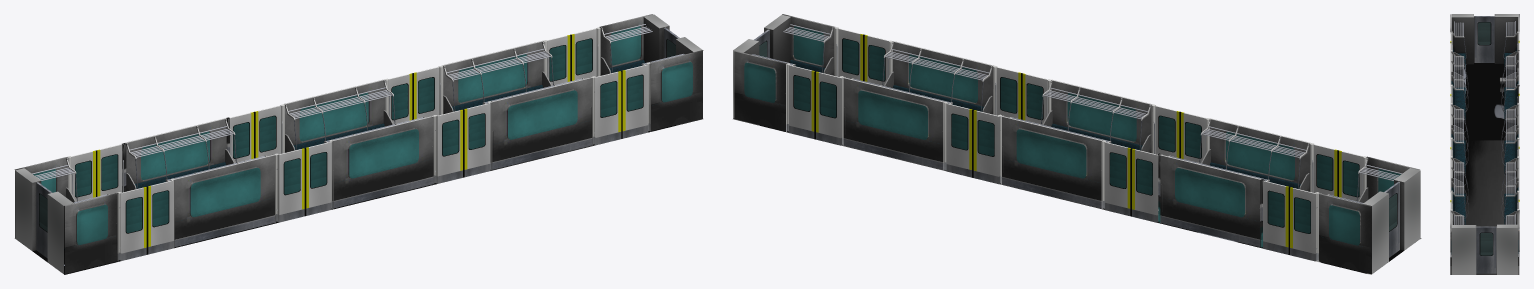
The model's file is train.fbx.
3 renders of one model, left to right at view 1: azimuth 30°, elevation 25°; view 2: azimuth 150°, elevation 25°; view 3: azimuth 270°, elevation 25°, orthographic. The views are drawn at different scales.
Visible parts, largest first — view 1: polySurface55, polySurface104, polySurface123, polySurface268, polySurface279, polySurface290, pCube10, polySurface146, polySurface141, door2left, door4right, door1right (+18 smaller); view 2: polySurface268, polySurface290, polySurface279, polySurface104, polySurface123, polySurface55, pCube10, polySurface300, polySurface301, door7left, door8left, door5left (+20 smaller); view 3: pPlane45, pCube10, pCube8, pPlane46, polySurface111, polySurface399, polySurface130, polySurface47, polySurface297, polySurface280, polySurface100, polySurface269 (+53 smaller).
Part boxes in pixels (x1,y1,x2,y2): polySurface55: [490, 77, 592, 169]; polySurface104: [332, 116, 433, 208]; polySurface123: [173, 154, 275, 246]; polySurface268: [125, 118, 226, 183]; polySurface279: [284, 79, 385, 145]; polySurface290: [442, 40, 543, 106]; pCube10: [15, 168, 73, 273]; polySurface146: [65, 193, 118, 273]; polySurface141: [649, 50, 703, 130]; door2left: [463, 103, 490, 177]; door4right: [120, 186, 147, 260]; door1right: [595, 71, 621, 145]; polySurface268: [1159, 154, 1261, 246]; polySurface290: [843, 77, 944, 169]; polySurface279: [1001, 115, 1102, 208]; polySurface104: [1051, 79, 1152, 152]; polySurface123: [1209, 118, 1310, 191]; polySurface55: [892, 41, 993, 114]; pCube10: [1363, 168, 1420, 273]; polySurface300: [1318, 193, 1371, 274]; polySurface301: [733, 50, 787, 131]; door7left: [1131, 148, 1158, 222]; door8left: [1289, 187, 1316, 261]; door5left: [815, 71, 841, 145]; pPlane45: [1450, 63, 1519, 274]; pCube10: [1451, 14, 1518, 64]; pCube8: [1451, 224, 1518, 274]; pPlane46: [1476, 226, 1496, 273]; polySurface111: [1454, 108, 1463, 142]; polySurface399: [1506, 161, 1515, 195]; polySurface130: [1454, 55, 1463, 89]; polySurface47: [1454, 161, 1463, 195]; polySurface297: [1505, 51, 1516, 70]; polySurface280: [1505, 158, 1516, 176]; polySurface100: [1453, 158, 1464, 176]; polySurface269: [1505, 105, 1516, 123].
Size of the model in its own units: 1375 by 141 by 189.
Materials: 7 (7 with a texture image).
